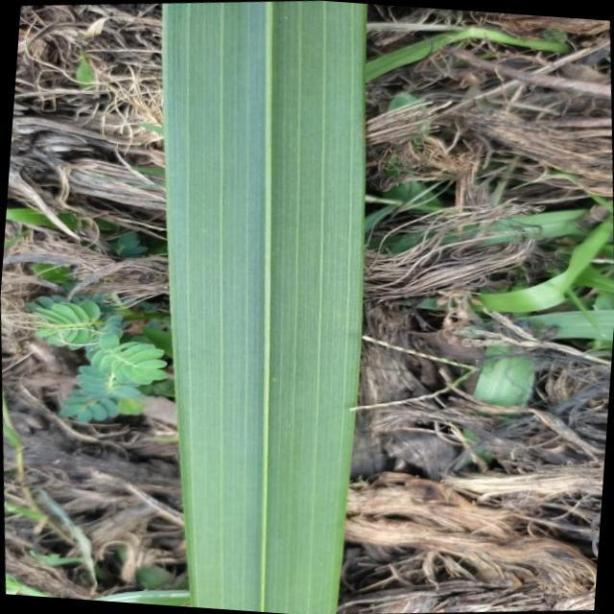Healthy: (162, 0, 366, 614)
